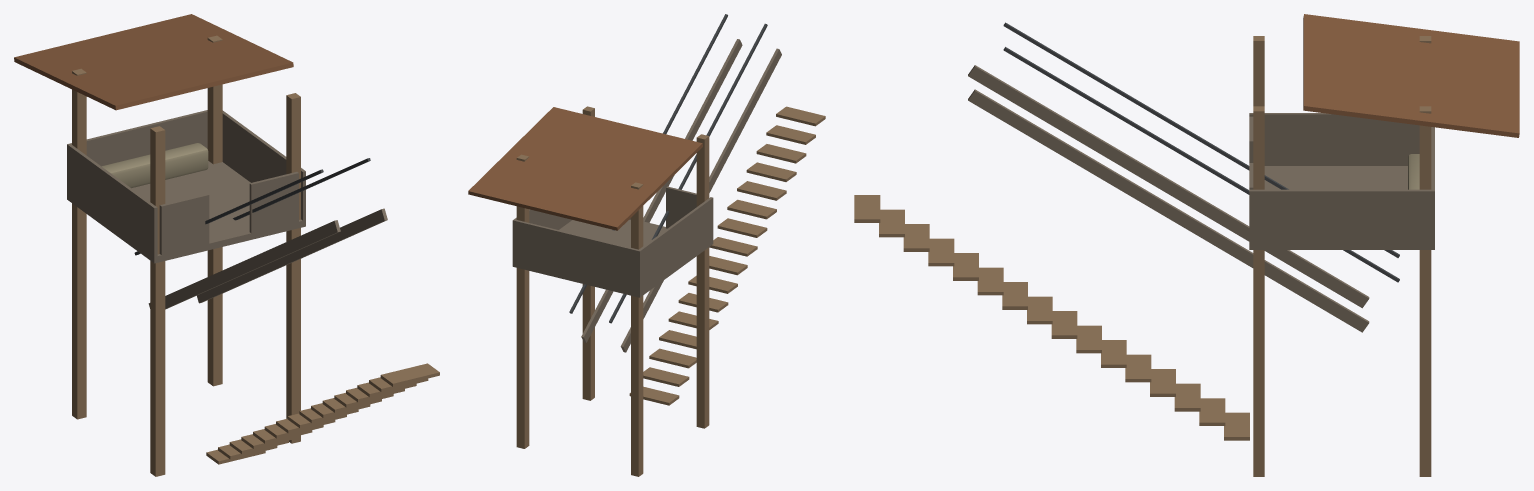
File: ZR_SniperNest.fbx
The picture shows the model from 3 angles, left to right: view 1: azimuth 30°, elevation 25°; view 2: azimuth 150°, elevation 25°; view 3: azimuth 270°, elevation 25°; orthographic projection. The views are drawn at different scales.
Visible parts, largest first — view 1: ZR_SniperNest; view 2: ZR_SniperNest; view 3: ZR_SniperNest.
Part boxes in pixels (bbox=[...]): ZR_SniperNest: bbox=[14, 14, 439, 476]; ZR_SniperNest: bbox=[468, 14, 825, 476]; ZR_SniperNest: bbox=[854, 14, 1519, 476].
Bounding box in the file's own units: 3.4 × 6.96 × 10.39.
